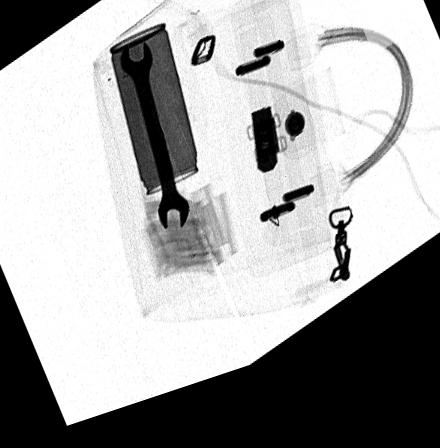Wrench: (120, 51, 191, 241)
